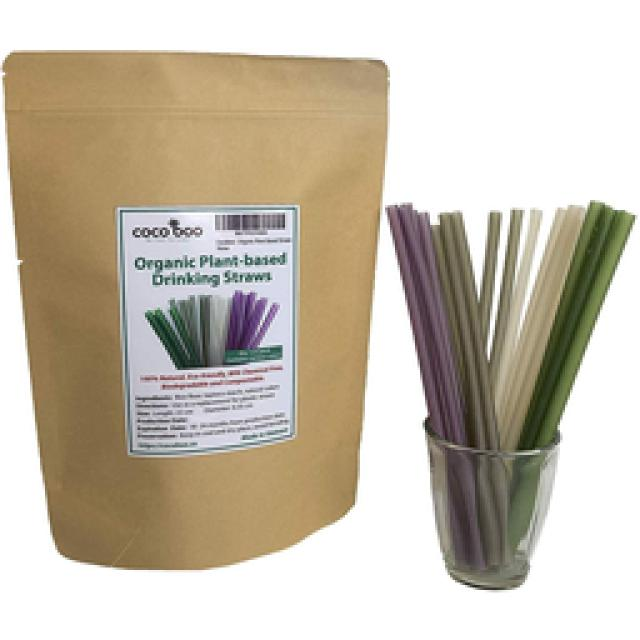plastic: (382, 192, 638, 582), (382, 198, 482, 568)
